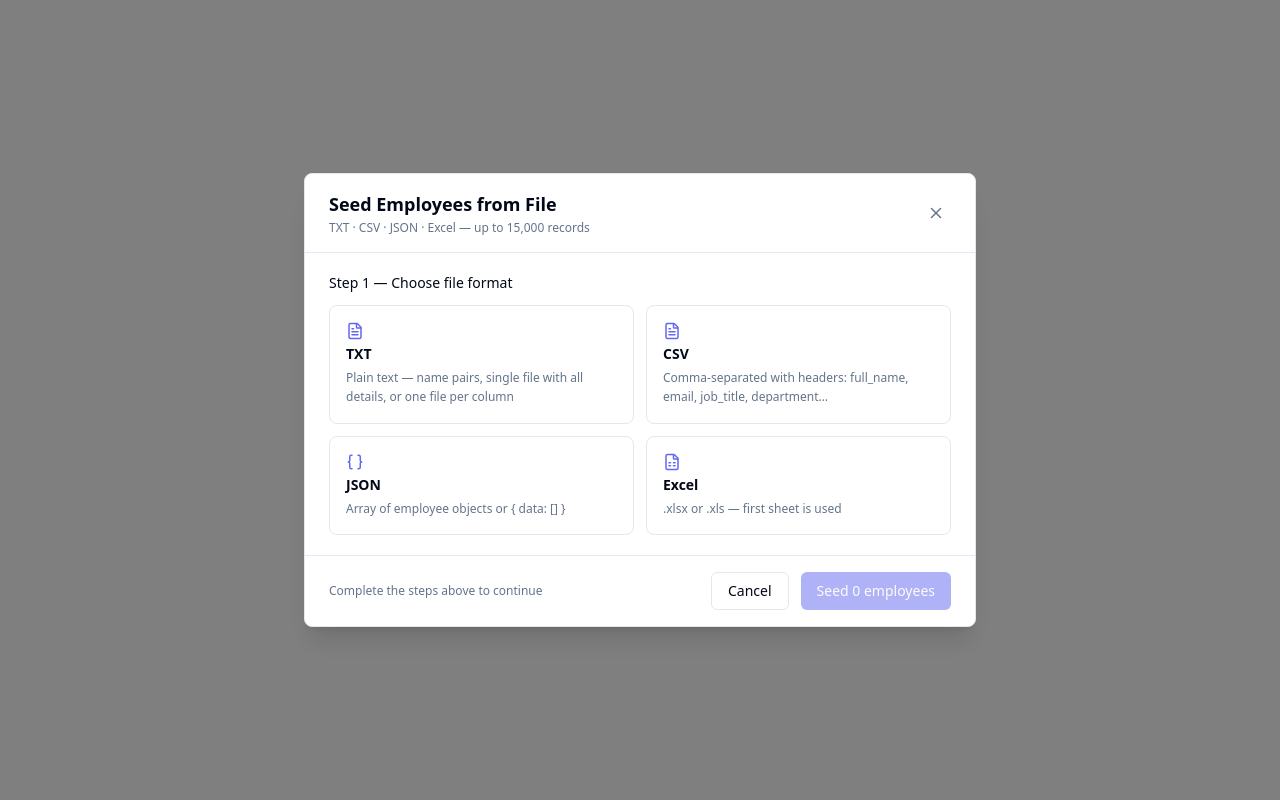
Scenario: SeedUploader › should show TXT type step after selecting TXT
This screenshot has width=1280, height=800.
Click the text "TXT" at (359, 353), box [346,344,372,363]
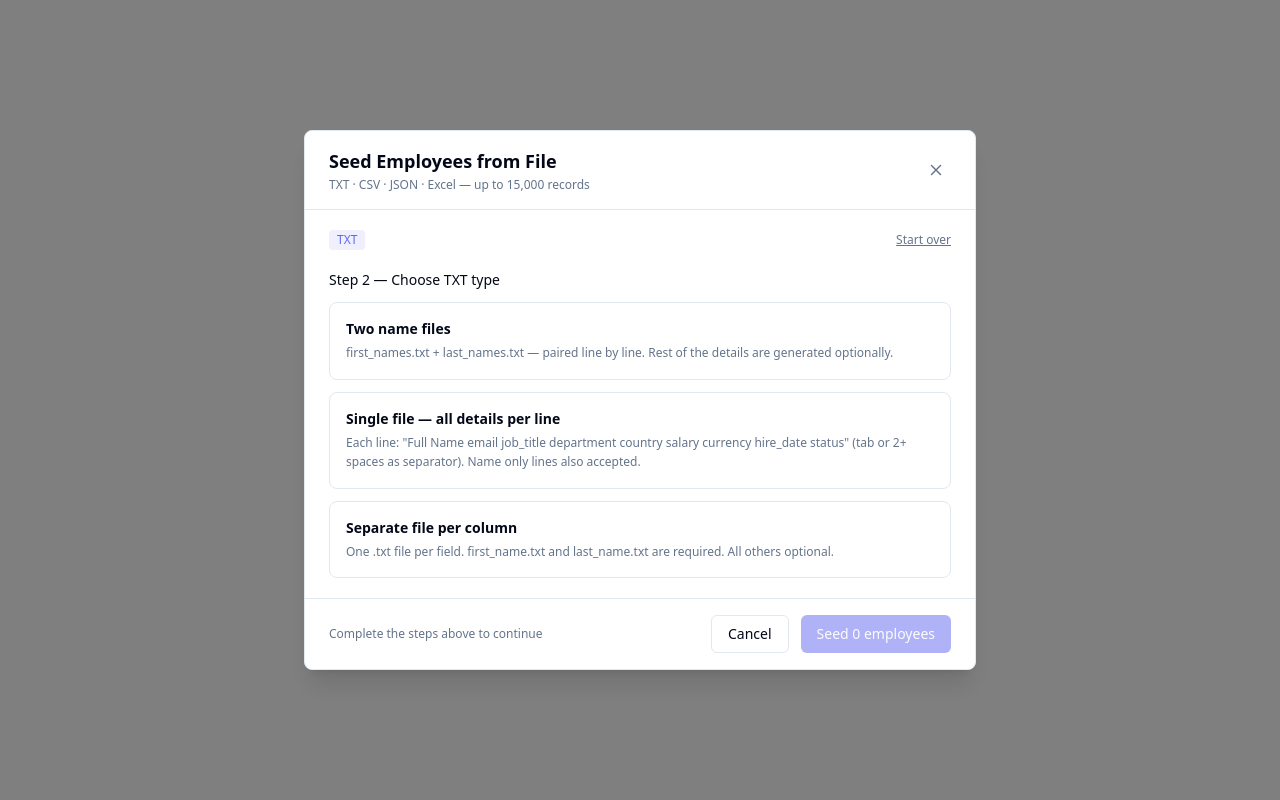
Check: the text "Step 2 — Choose TXT type" is shown, box [329,270,500,289]
